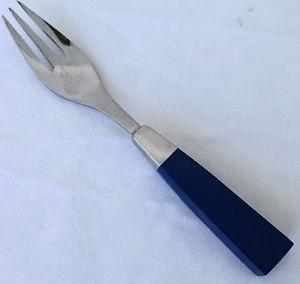Fork: (1, 0, 294, 277)
